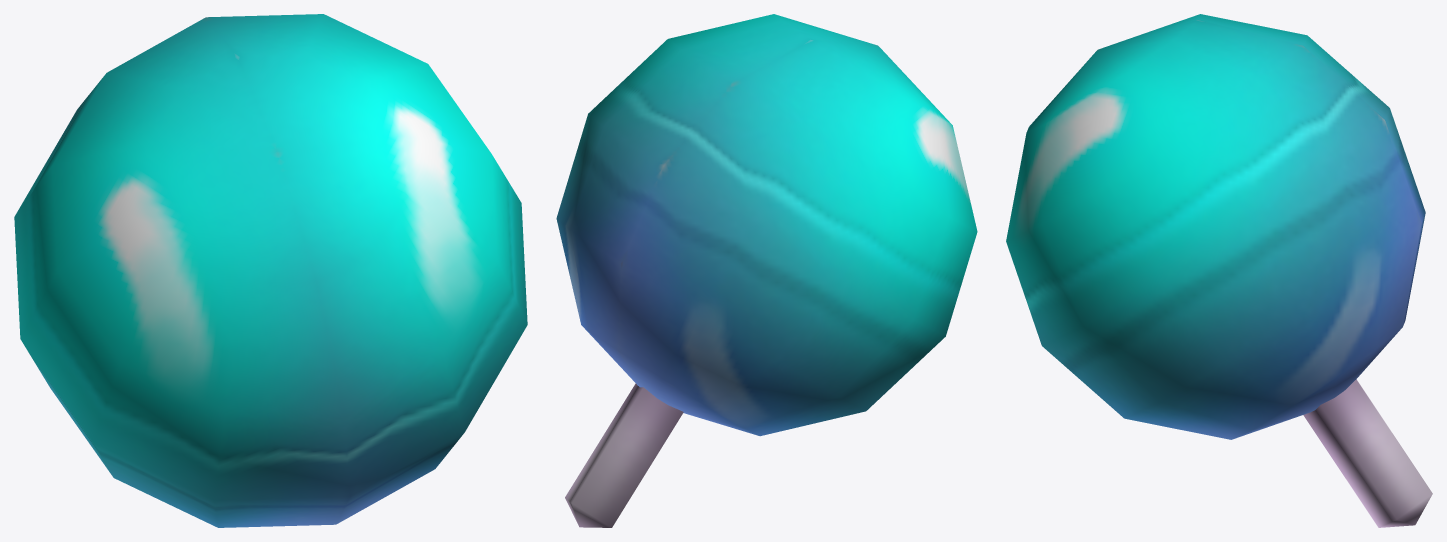
Rendered from scenes_candy_tools01a.FBX.
3 views of the same model, side by side, from view 1: azimuth 30°, elevation 25°; view 2: azimuth 150°, elevation 25°; view 3: azimuth 270°, elevation 25° (orthographic). The views are drawn at different scales.
Visible parts, largest first — view 1: scenes_candy_tools01a; view 2: scenes_candy_tools01a; view 3: scenes_candy_tools01a.
Boxes of the visible parts, <box> form: scenes_candy_tools01a: <box>14,14,527,527</box>; scenes_candy_tools01a: <box>556,14,977,527</box>; scenes_candy_tools01a: <box>1006,14,1432,527</box>.
Size of the model in its own units: 81.56 by 98 by 84.2.
